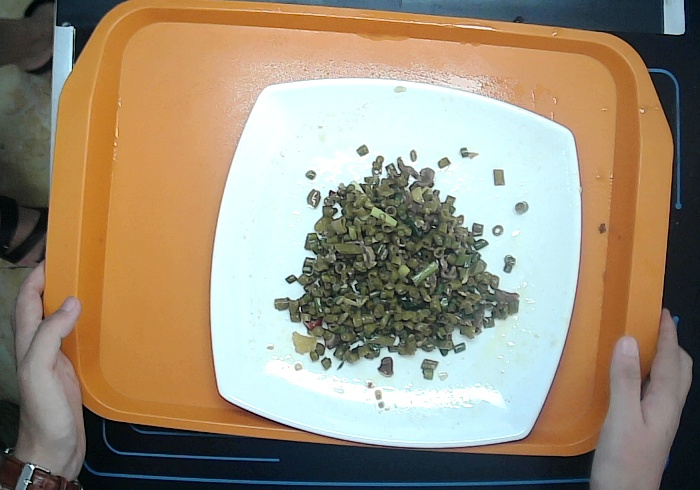ZNLD-Bai_Fang_Pan: (208, 75, 584, 449)
